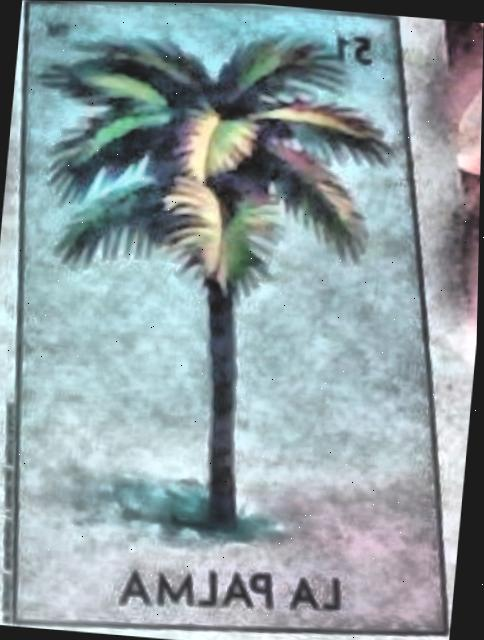La Palma: (15, 3, 447, 631)
